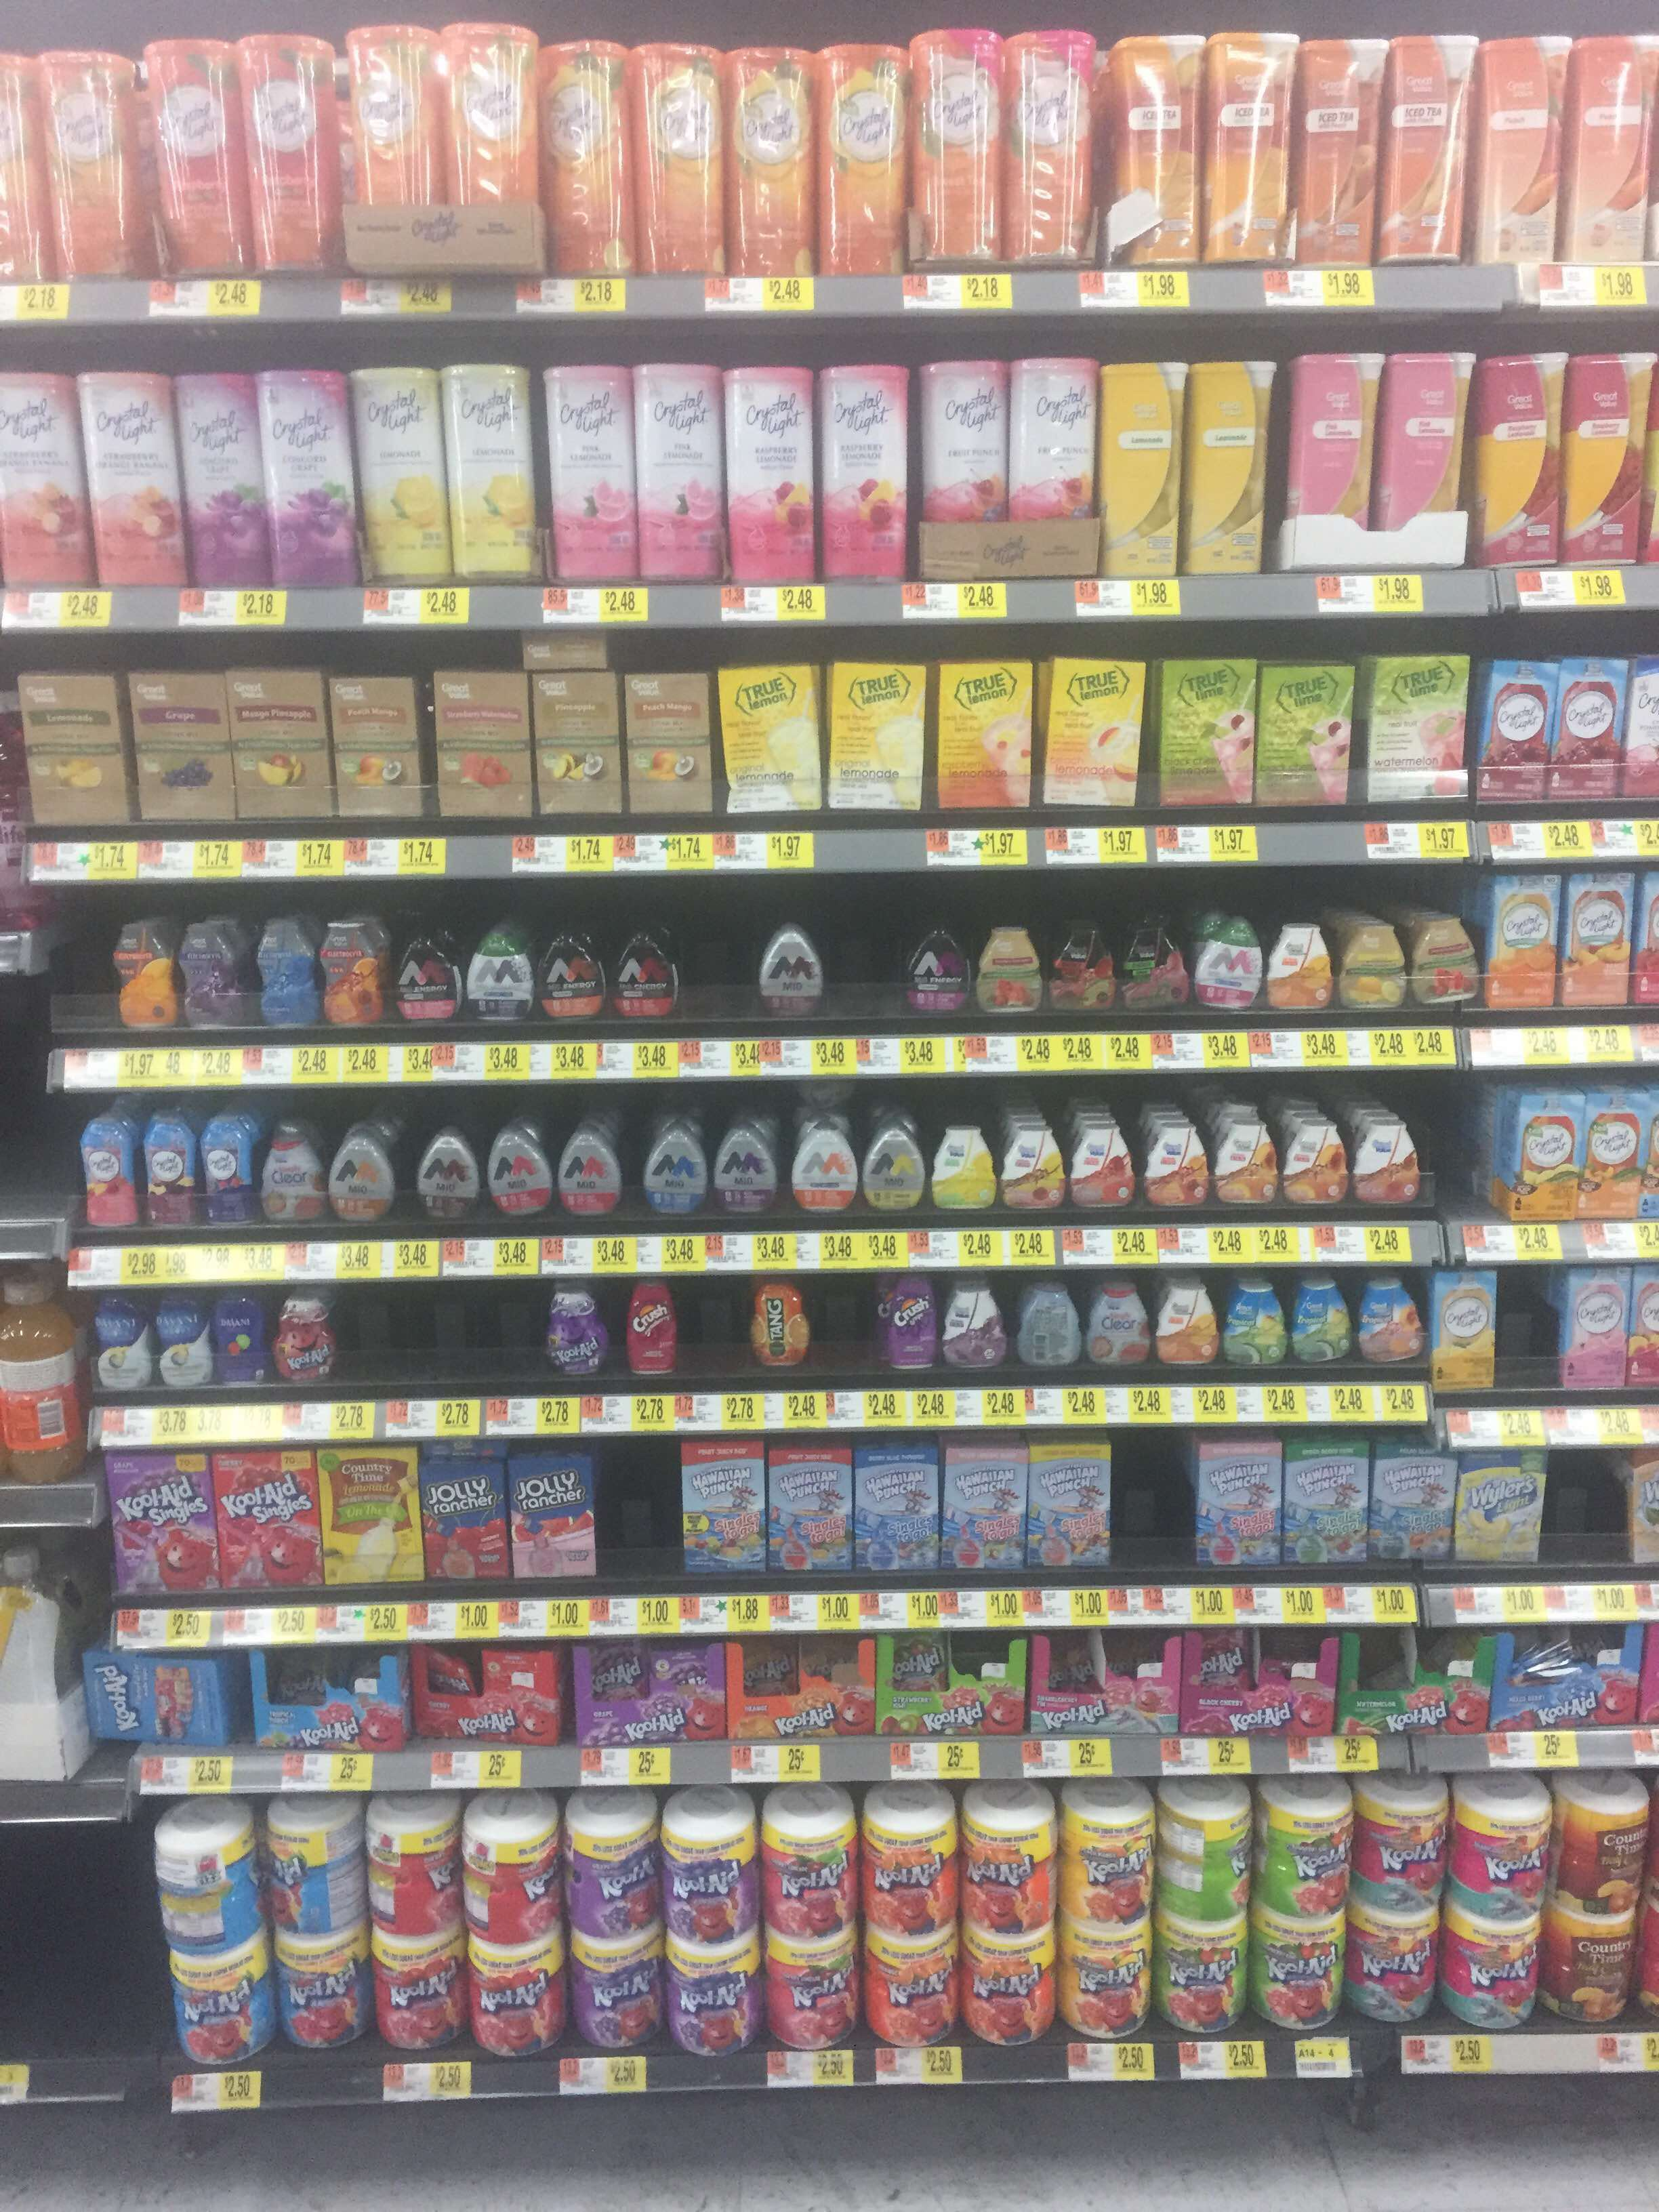Out-of-stock: (676, 876, 756, 1021)
